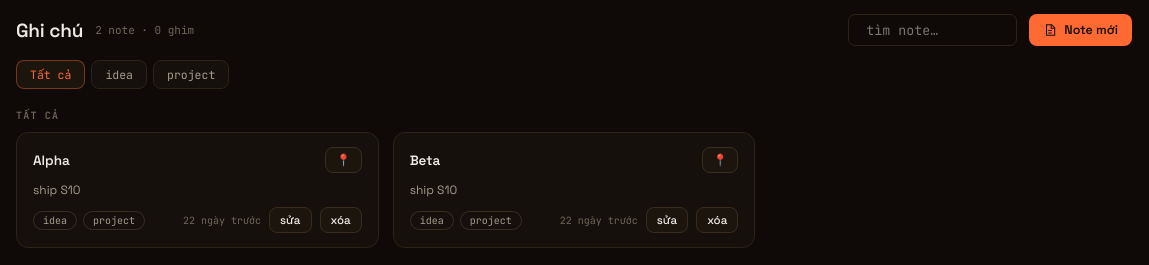
S10 Notes — render + filter › client-side search filters by title/body
Check: the text "Alpha" is shown, box x1=33 y1=152 x2=70 y2=168
Type "beta" into the field with test id "notes-search". click: point(936, 30)
box: x1=866 y1=21 x2=1006 y2=39
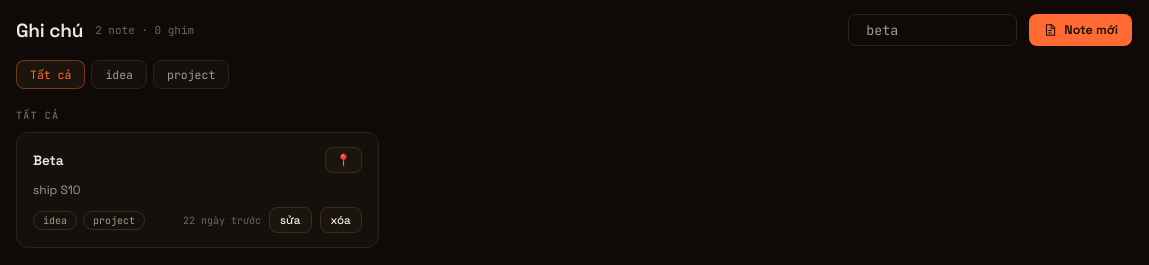
Check: the text "Beta" is shown, box x1=33 y1=152 x2=64 y2=168
Check: the text "Alpha" is gone
